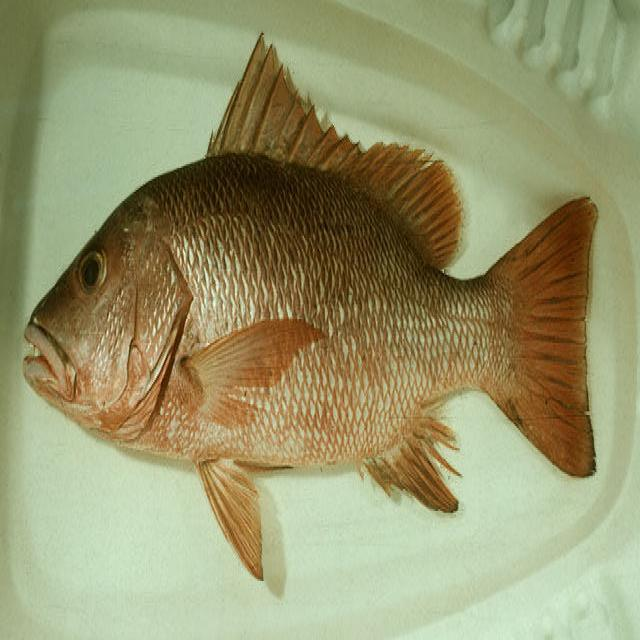ikan: (19, 26, 616, 597)
